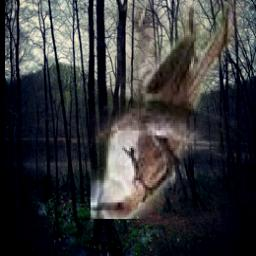Cuckoo: (91, 0, 252, 220)
